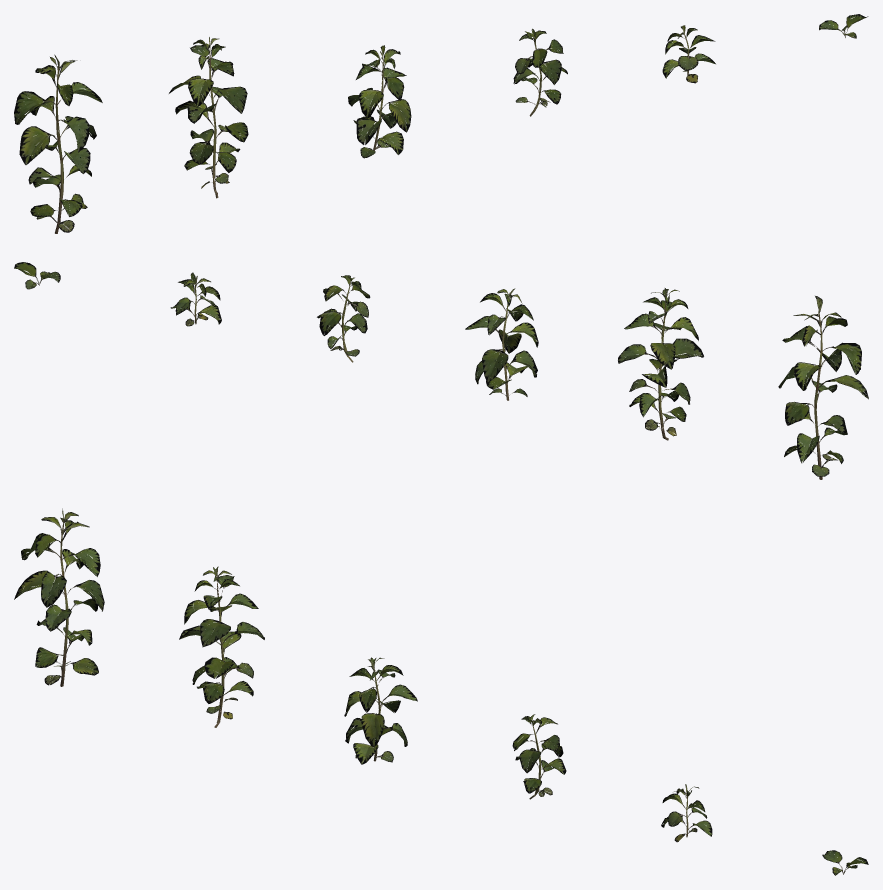
Rendered from nettle_plant.glb.
The picture shows the model from 3 angles, top to bottom: view 1: azimuth 30°, elevation 25°; view 2: azimuth 150°, elevation 25°; view 3: azimuth 330°, elevation 25°; orthographic projection.
Visible parts, largest first — view 1: nettle_plant_tall_a_LOD0, nettle_plant_tall_b_LOD0, nettle_plant_medium_a_LOD0, nettle_plant_medium_b_LOD0, nettle_plant_small_a_LOD0; view 2: nettle_plant_tall_a_LOD0, nettle_plant_tall_b_LOD0, nettle_plant_medium_a_LOD0, nettle_plant_medium_b_LOD0, nettle_plant_small_a_LOD0, nettle_plant_small_b_LOD0; view 3: nettle_plant_tall_a_LOD0, nettle_plant_tall_b_LOD0, nettle_plant_medium_a_LOD0, nettle_plant_medium_b_LOD0, nettle_plant_small_a_LOD0.
Part boxes in pixels (left/top/right/bottom): nettle_plant_tall_a_LOD0: left=14, top=54, right=102, bottom=233; nettle_plant_tall_b_LOD0: left=169, top=37, right=248, bottom=198; nettle_plant_medium_a_LOD0: left=348, top=45, right=411, bottom=158; nettle_plant_medium_b_LOD0: left=513, top=28, right=567, bottom=116; nettle_plant_small_a_LOD0: left=662, top=25, right=715, bottom=83; nettle_plant_tall_a_LOD0: left=778, top=296, right=868, bottom=479; nettle_plant_tall_b_LOD0: left=618, top=288, right=703, bottom=440; nettle_plant_medium_a_LOD0: left=465, top=288, right=538, bottom=400; nettle_plant_medium_b_LOD0: left=317, top=275, right=370, bottom=362; nettle_plant_small_a_LOD0: left=170, top=272, right=221, bottom=326; nettle_plant_small_b_LOD0: left=14, top=262, right=60, bottom=289; nettle_plant_tall_a_LOD0: left=14, top=508, right=104, bottom=686; nettle_plant_tall_b_LOD0: left=179, top=566, right=264, bottom=727; nettle_plant_medium_a_LOD0: left=344, top=657, right=417, bottom=764; nettle_plant_medium_b_LOD0: left=512, top=714, right=566, bottom=799; nettle_plant_small_a_LOD0: left=661, top=784, right=712, bottom=842.
Bounding box in the file's own units: 1.08 × 0.2181 × 0.0949.
Materials: 1 (1 with a texture image).
